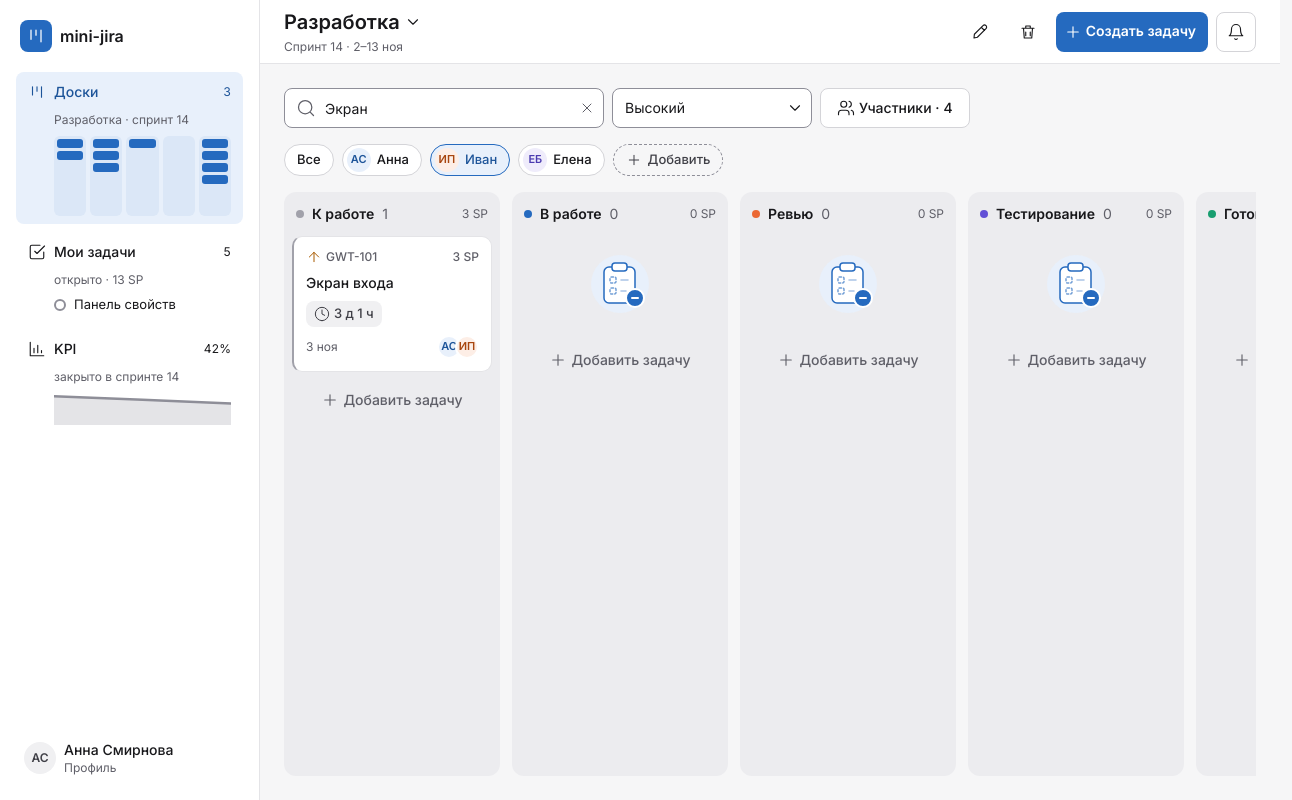
Test: сохранение фильтров доски › переносит фильтры старой ссылки в стор и сохраняет остальные параметры
expect the dropdown named "Приоритет" is shown: met, box [612,88,812,128]
Click the link "Участники · 4" at (895,108), box [820,88,970,128]
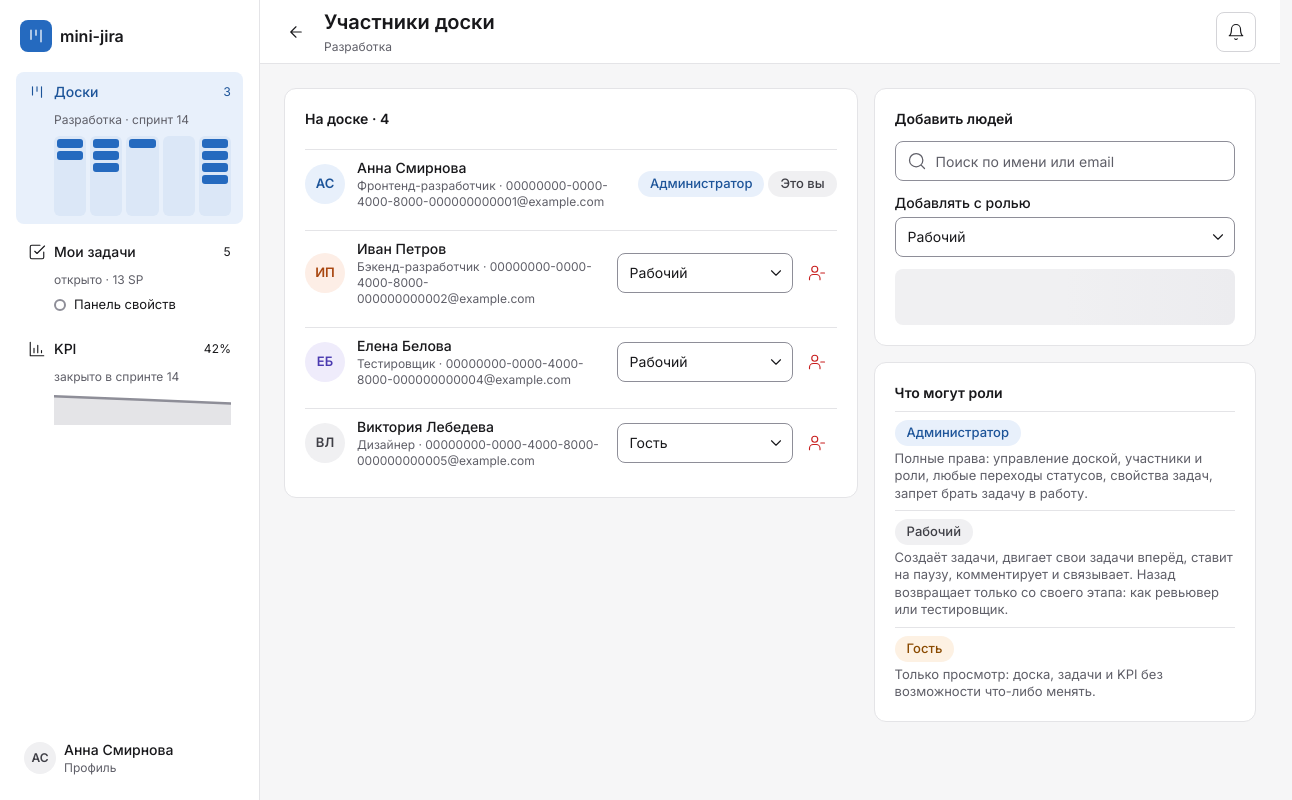
expect the heading "Участники доски" is shown: met, box [324,10,495,34]
Click the button named "Назад" at (296,32), box [276,12,316,52]
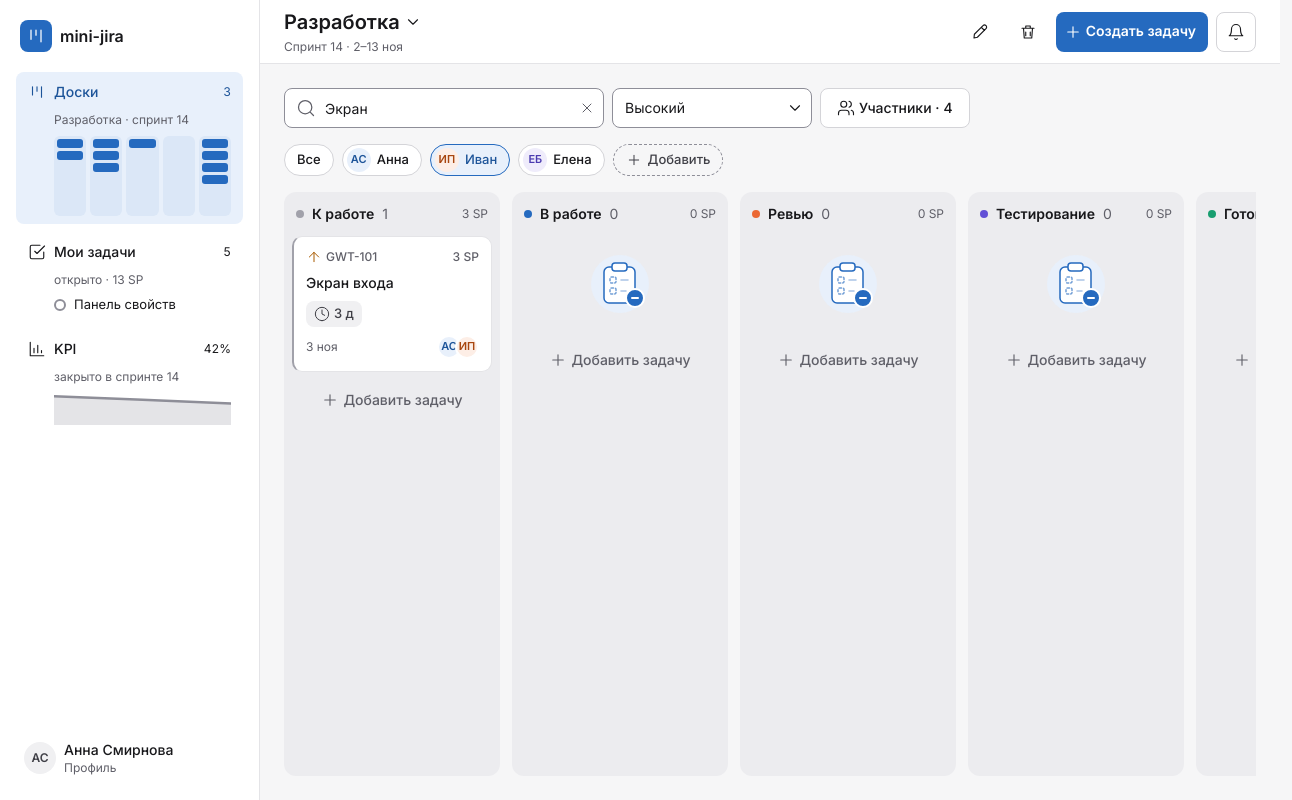
expect the dropdown named "Приоритет" shows "Высокий": met, box [612,88,812,128]
expect the link "Экран входа" is shown: met, box [306,274,394,291]
